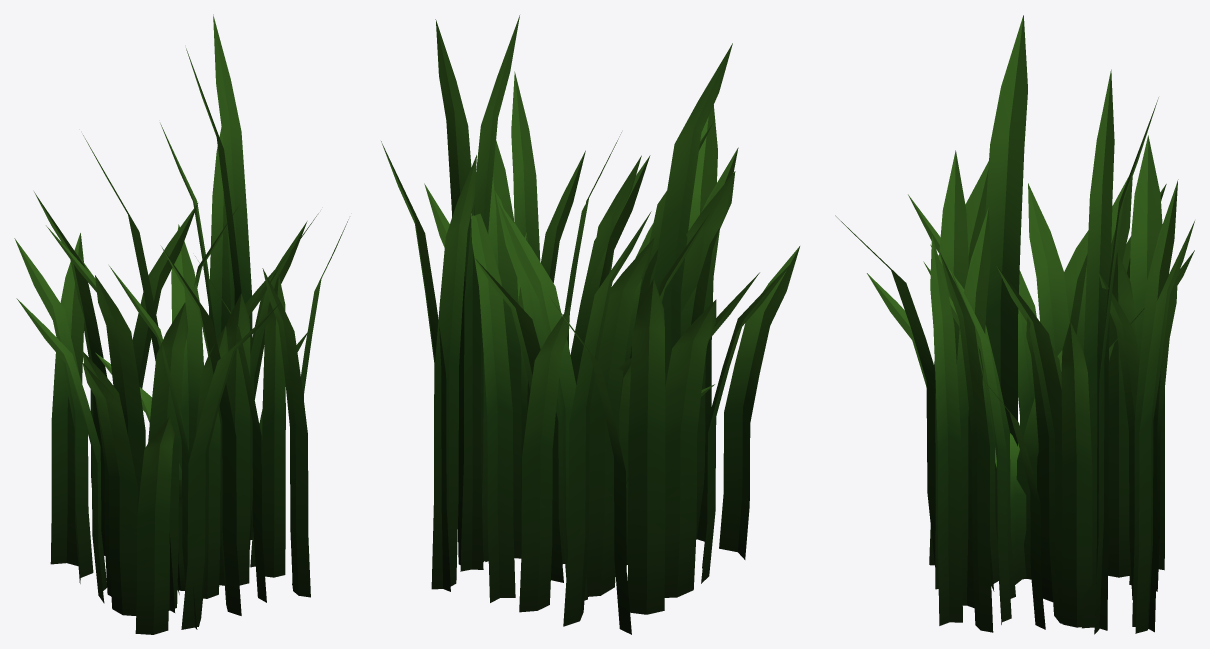
Rendered from TallGrass3.fbx.
3 views of the same model, side by side, from view 1: azimuth 30°, elevation 25°; view 2: azimuth 150°, elevation 25°; view 3: azimuth 270°, elevation 25° (orthographic). The views are drawn at different scales.
Parts seen in each view (by area): view 1: Tall_Grass_3; view 2: Tall_Grass_3; view 3: Tall_Grass_3.
Part boxes in pixels (bbox=[...]): Tall_Grass_3: bbox=[14, 14, 348, 634]; Tall_Grass_3: bbox=[381, 15, 799, 634]; Tall_Grass_3: bbox=[835, 15, 1194, 634].
Bounding box in the file's own units: 148 × 259 × 161.
